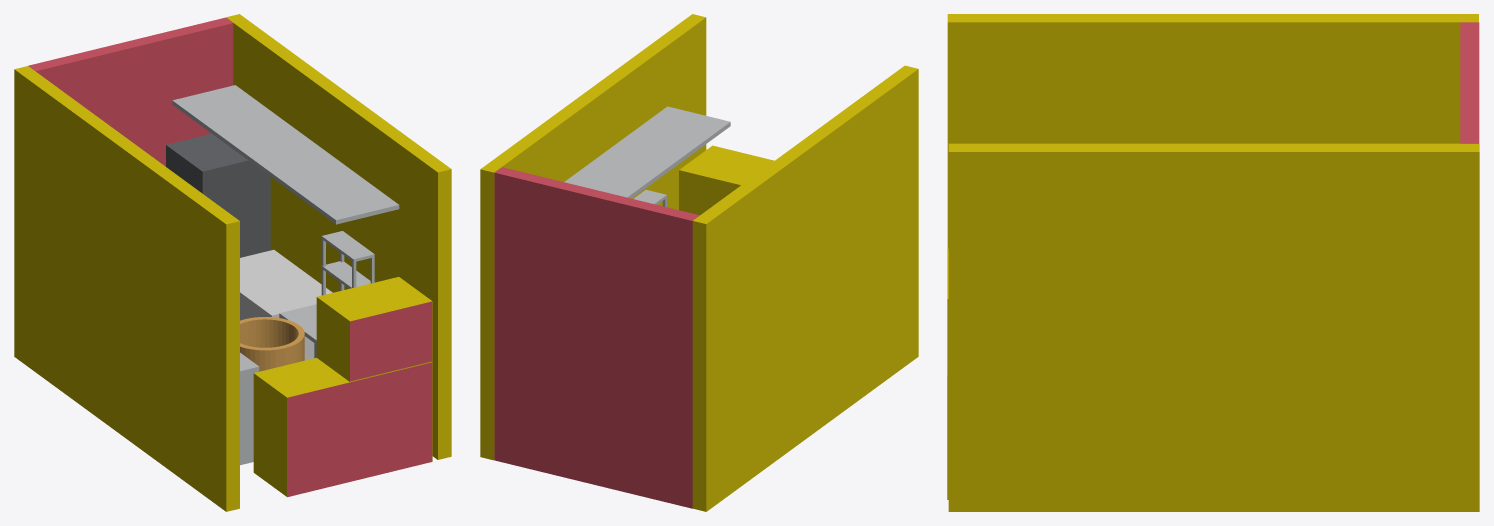
File: Funky Wluff-Juttuli.glb
The picture shows the model from 3 angles, left to right: view 1: azimuth 30°, elevation 25°; view 2: azimuth 150°, elevation 25°; view 3: azimuth 270°, elevation 25°; orthographic projection. The views are drawn at different scales.
Parts seen in each view (by area): view 1: Mesh_Mesh_head_geo.001_lambert2SG.001; view 2: Mesh_Mesh_head_geo.001_lambert2SG.001; view 3: Mesh_Mesh_head_geo.001_lambert2SG.001.
Part boxes in pixels (box(x1,y1,x2,y2)): Mesh_Mesh_head_geo.001_lambert2SG.001: box(14, 14, 451, 511); Mesh_Mesh_head_geo.001_lambert2SG.001: box(480, 14, 918, 511); Mesh_Mesh_head_geo.001_lambert2SG.001: box(947, 14, 1479, 511).
Bounding box in the file's own units: 0.0217 × 0.0267 × 0.0354.
